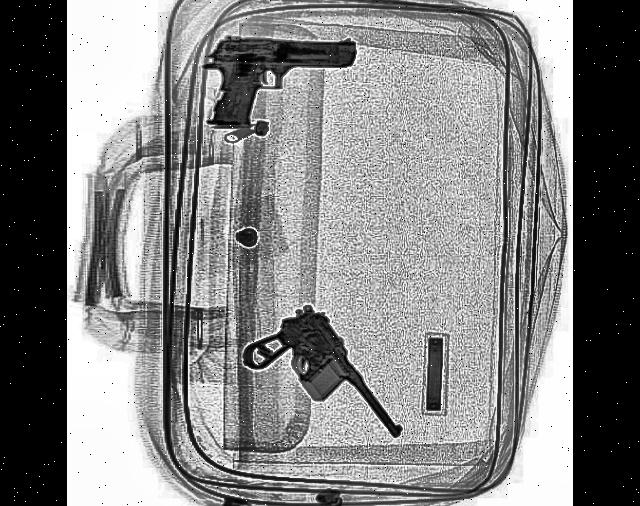Gun: (240, 276, 404, 506), (199, 36, 355, 128)
